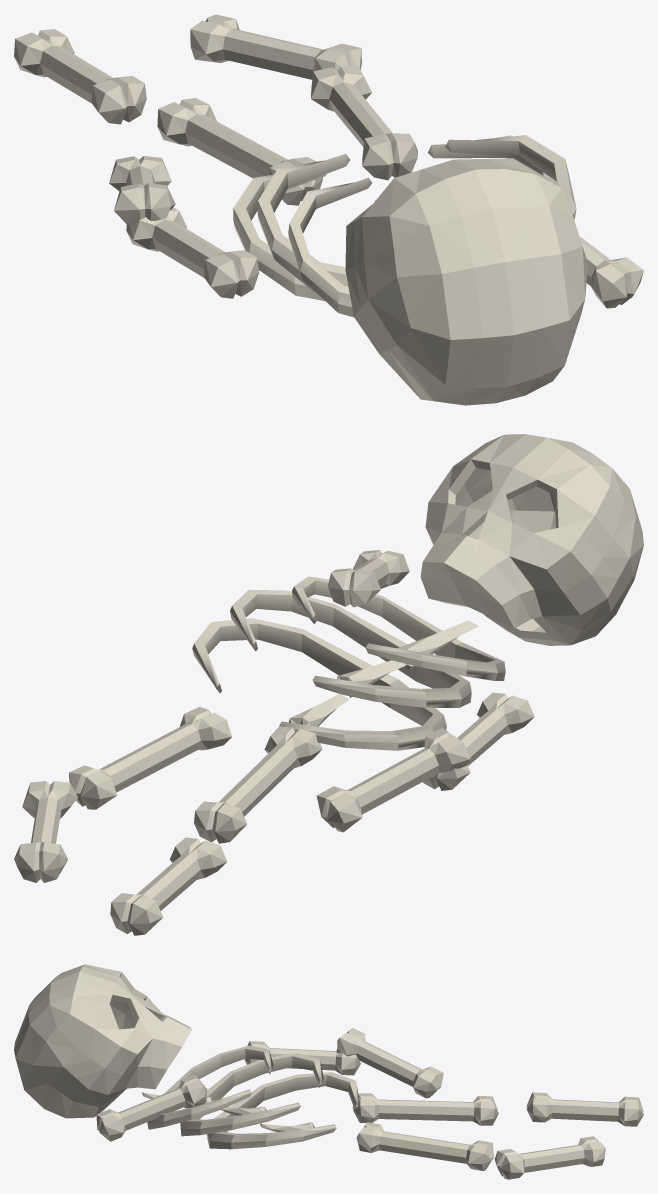
File: Skeleton.obj
3 renders of one model, top to bottom at view 1: azimuth 30°, elevation 25°; view 2: azimuth 150°, elevation 25°; view 3: azimuth 270°, elevation 25°, orthographic. The views are drawn at different scales.
Visible parts, largest first — view 1: Skeleton; view 2: Skeleton; view 3: Skeleton.
Part boxes in pixels (x1,y1,x2,y2): Skeleton: (14, 14, 643, 405); Skeleton: (14, 434, 643, 935); Skeleton: (14, 964, 643, 1179).
Bounding box in the file's own units: 2.77 × 1.71 × 6.58.
